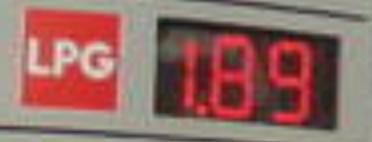digits: (210, 31, 259, 119), (266, 37, 316, 123), (161, 29, 201, 117)
